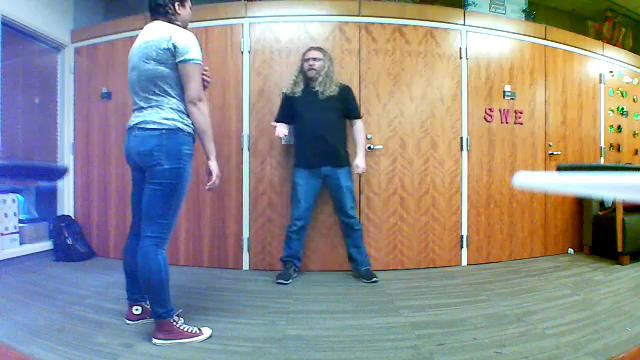land: (265, 119, 294, 143)
